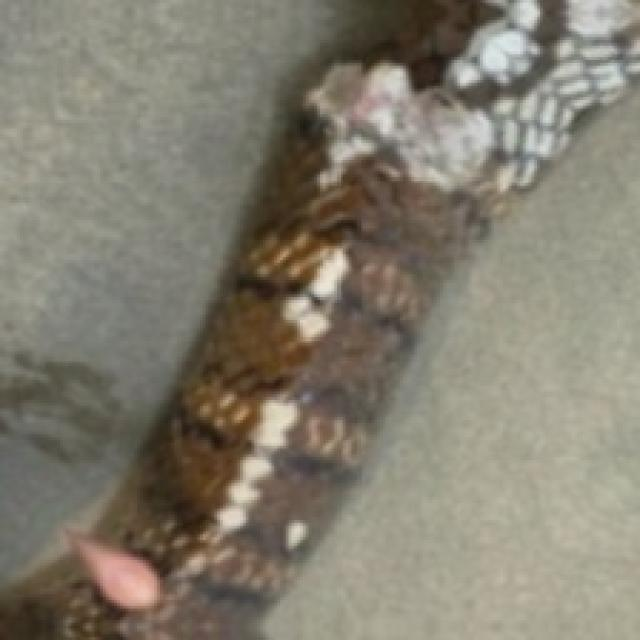king cobra: (0, 0, 637, 637), (60, 523, 163, 611)
